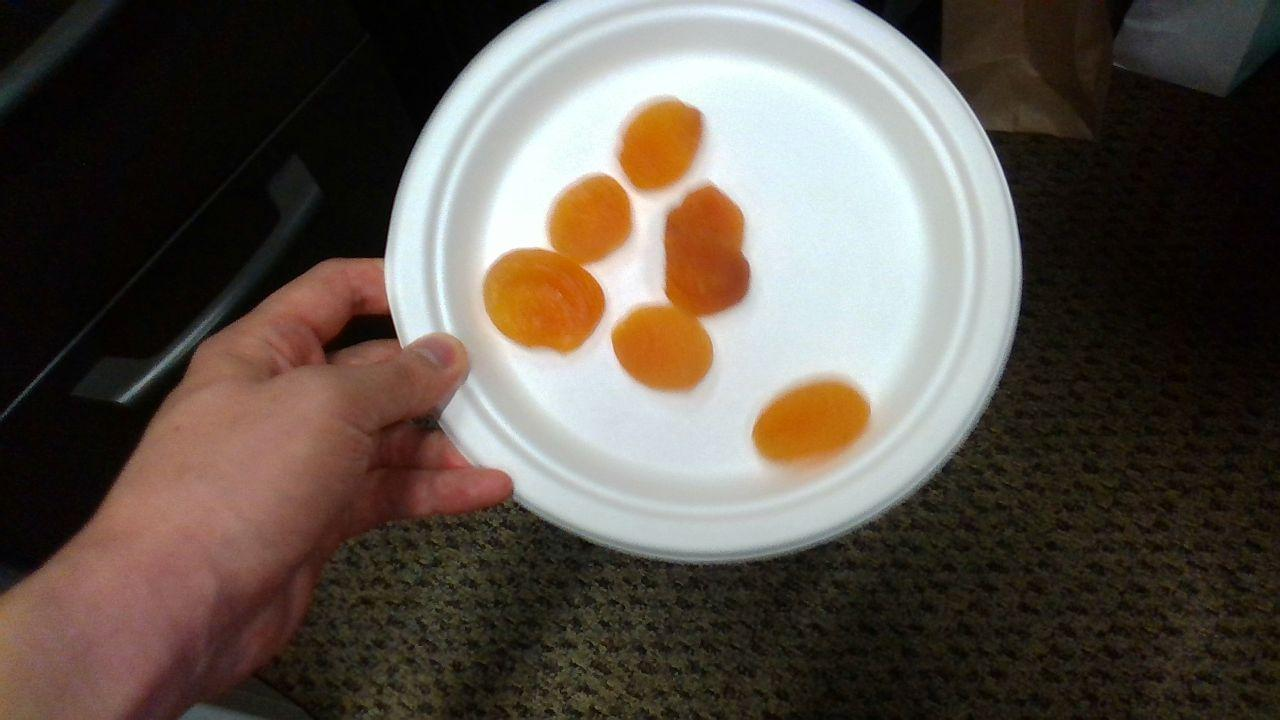apricot: (485, 250, 605, 354), (665, 188, 750, 316), (752, 385, 868, 460), (615, 309, 711, 390), (621, 102, 701, 191), (549, 177, 630, 262)
plate: (387, 1, 1021, 561)
